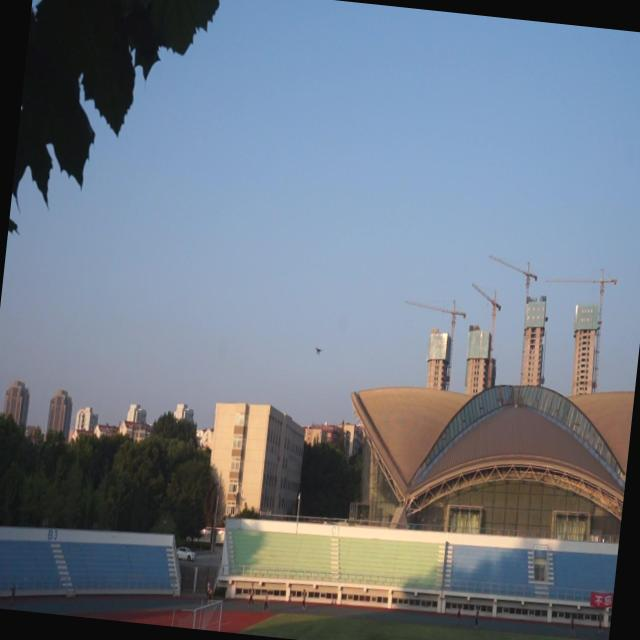drone: (312, 340, 326, 360)
